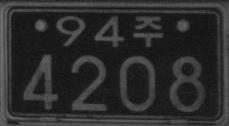0: (119, 54, 155, 113)
2: (70, 54, 107, 111)
4: (22, 54, 59, 110), (94, 15, 124, 48)
8: (169, 55, 206, 113)
9: (55, 15, 87, 47)
주: (133, 14, 163, 48)
